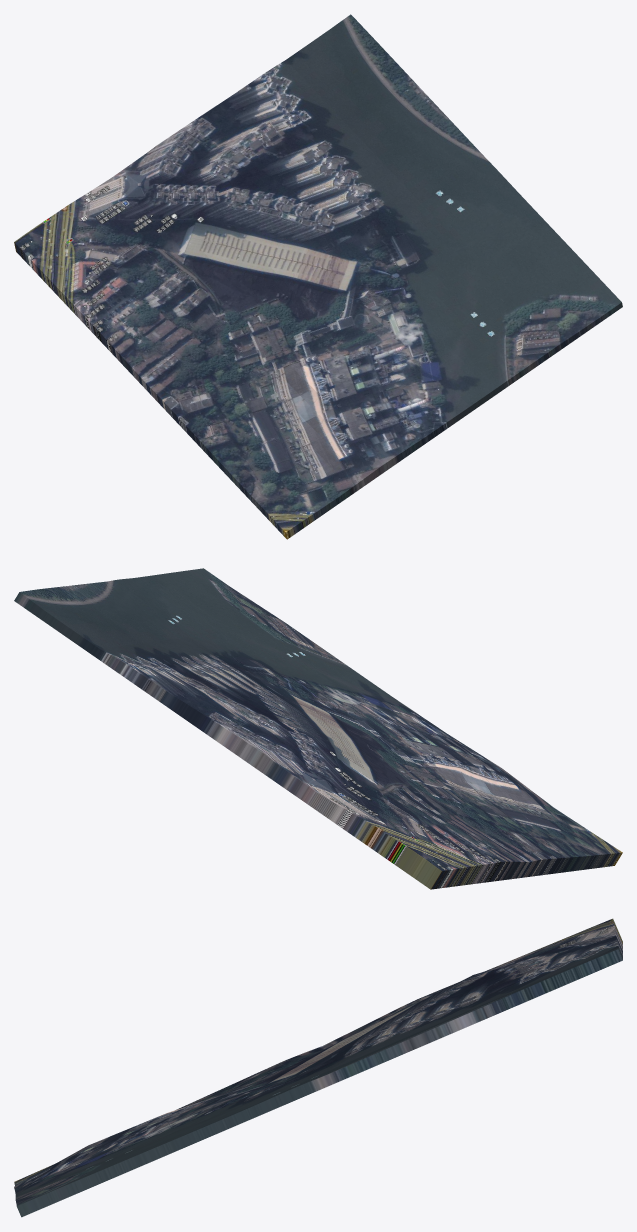
3 views of the same model, one above another, from view 1: azimuth 30°, elevation 25°; view 2: azimuth 150°, elevation 25°; view 3: azimuth 270°, elevation 25° (orthographic). The views are drawn at different scales.
Parts seen in each view (by area): view 1: 0_7_4; view 2: 0_7_4; view 3: 0_7_4.
Part boxes in pixels (x1,y1,x2,y2): 0_7_4: [14, 14, 622, 539]; 0_7_4: [14, 568, 622, 889]; 0_7_4: [14, 918, 622, 1217].
Size of the model in its own units: 600 by 437 by 549.
1 material, 1 textured.
